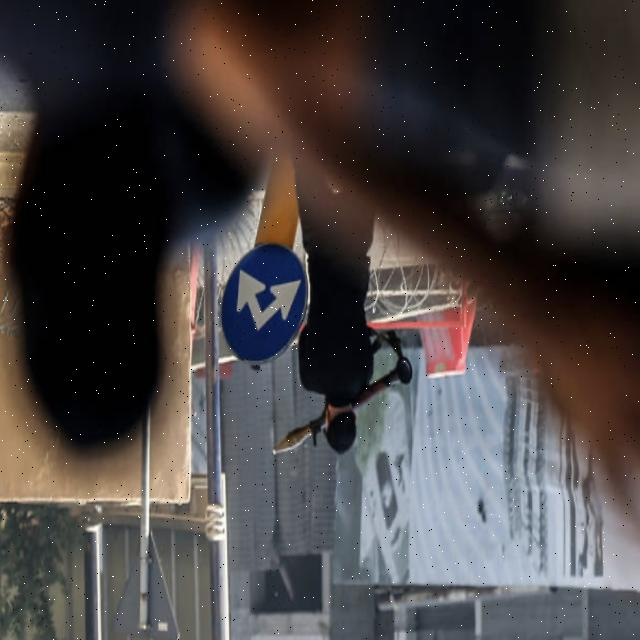bazooka: (268, 351, 420, 458)
